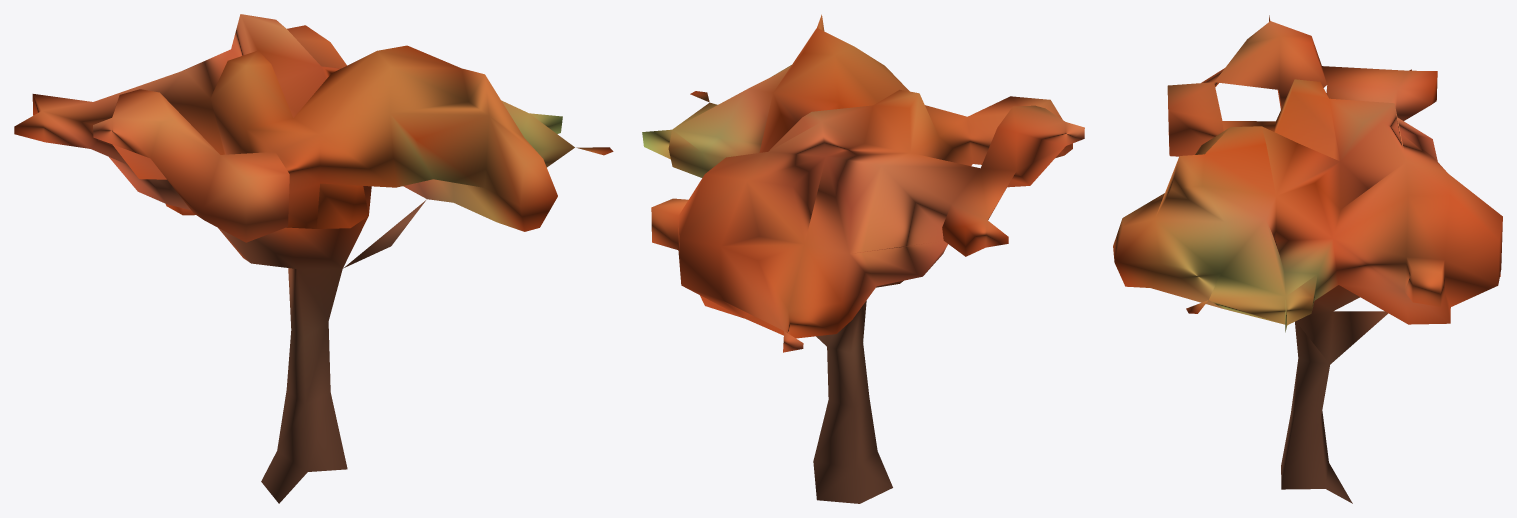
The model's file is canopy-tree-211-lod3.obj.
3 renders of one model, left to right at view 1: azimuth 30°, elevation 25°; view 2: azimuth 150°, elevation 25°; view 3: azimuth 270°, elevation 25°, orthographic. The views are drawn at different scales.
Parts seen in each view (by area): view 1: simplified; view 2: simplified; view 3: simplified.
Part boxes in pixels (bbox=[...]): simplified: bbox=[14, 14, 613, 503]; simplified: bbox=[642, 14, 1084, 503]; simplified: bbox=[1113, 15, 1502, 503].
Size of the model in its own units: 366 by 326 by 294.
